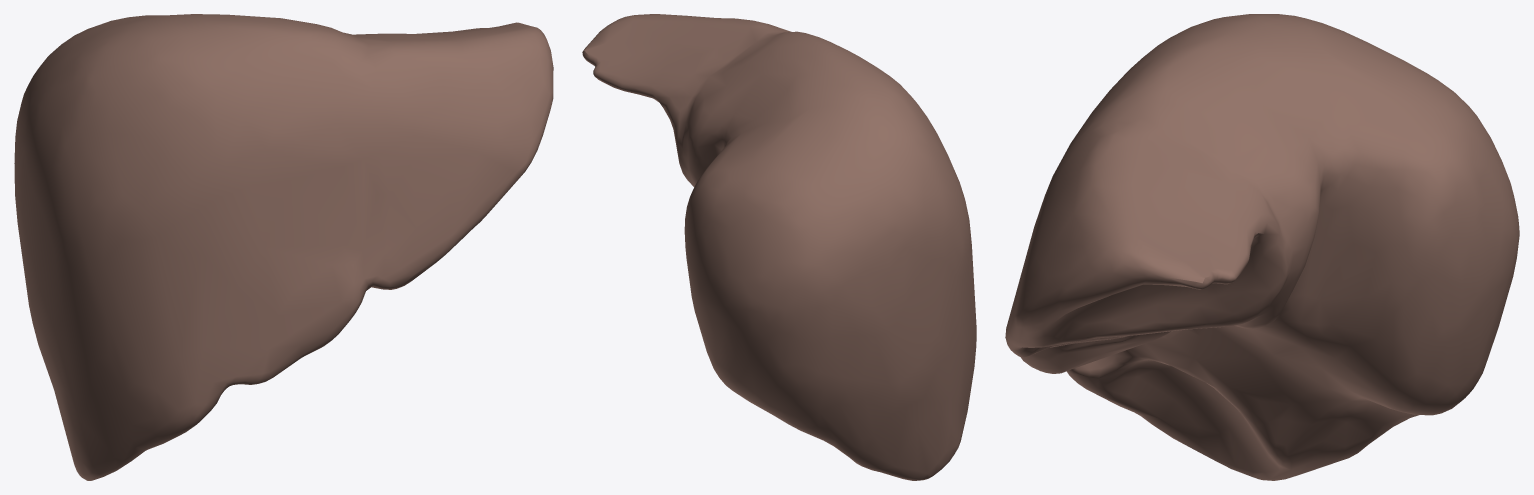
Rendered from liver.glb.
3 views of the same model, side by side, from view 1: azimuth 30°, elevation 25°; view 2: azimuth 150°, elevation 25°; view 3: azimuth 270°, elevation 25° (orthographic). The views are drawn at different scales.
Parts seen in each view (by area): view 1: FJ192_BP4483_FMA7197_Liver; view 2: FJ192_BP4483_FMA7197_Liver; view 3: FJ192_BP4483_FMA7197_Liver.
Boxes of the visible parts, box(x1,y1,x2,y2) form: FJ192_BP4483_FMA7197_Liver: box(14, 14, 553, 480); FJ192_BP4483_FMA7197_Liver: box(582, 14, 976, 480); FJ192_BP4483_FMA7197_Liver: box(1005, 14, 1519, 480).
Bounding box in the file's own units: 0.3834 × 0.3555 × 0.3225.
